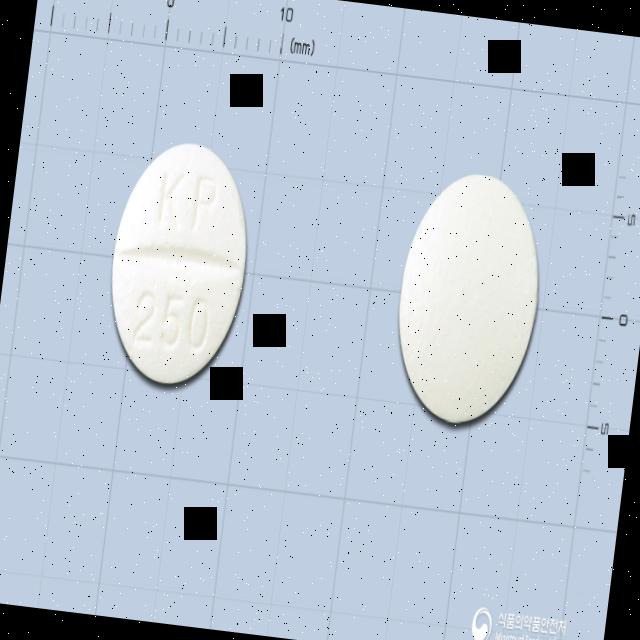Kipocin: (99, 134, 261, 392)
